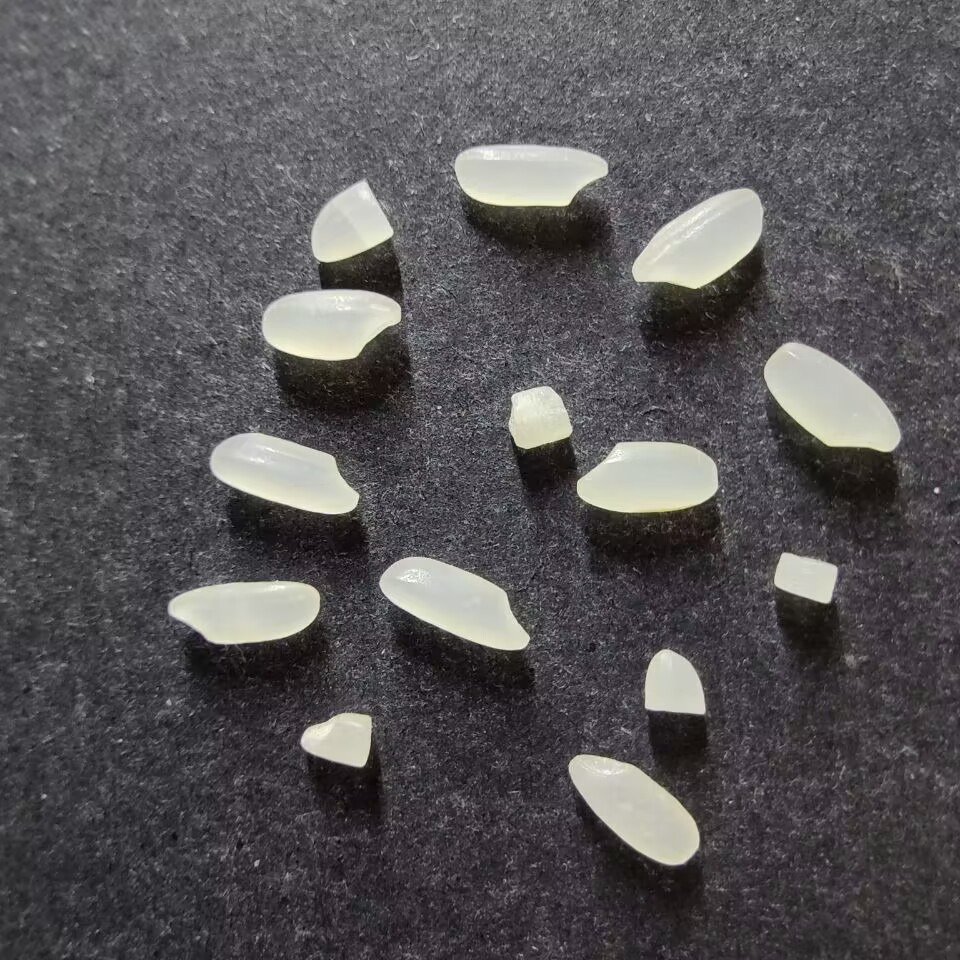broken: (507, 386, 573, 449), (299, 711, 371, 768), (642, 649, 705, 714), (773, 551, 837, 603)
rice: (762, 337, 905, 452), (567, 753, 701, 866), (378, 556, 530, 651), (631, 187, 763, 289), (209, 432, 359, 514), (575, 441, 718, 513), (261, 289, 402, 360), (453, 143, 609, 207), (167, 579, 320, 644)
